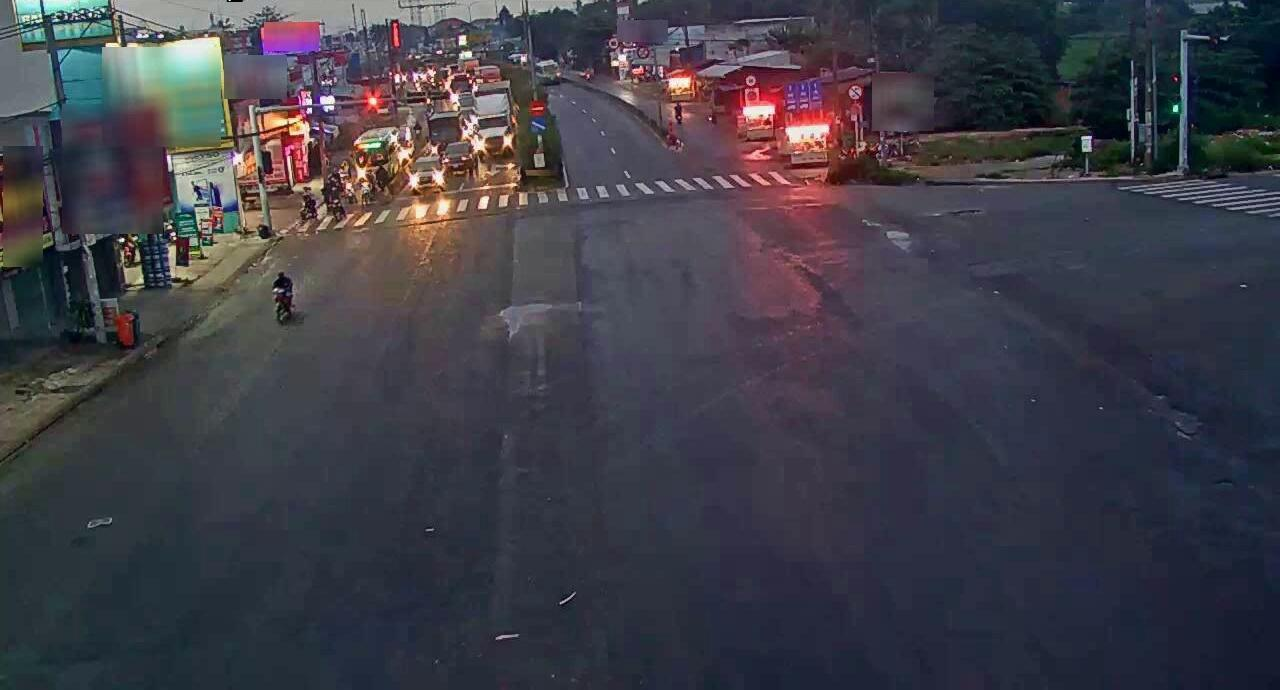xe may: (272, 269, 296, 323)
